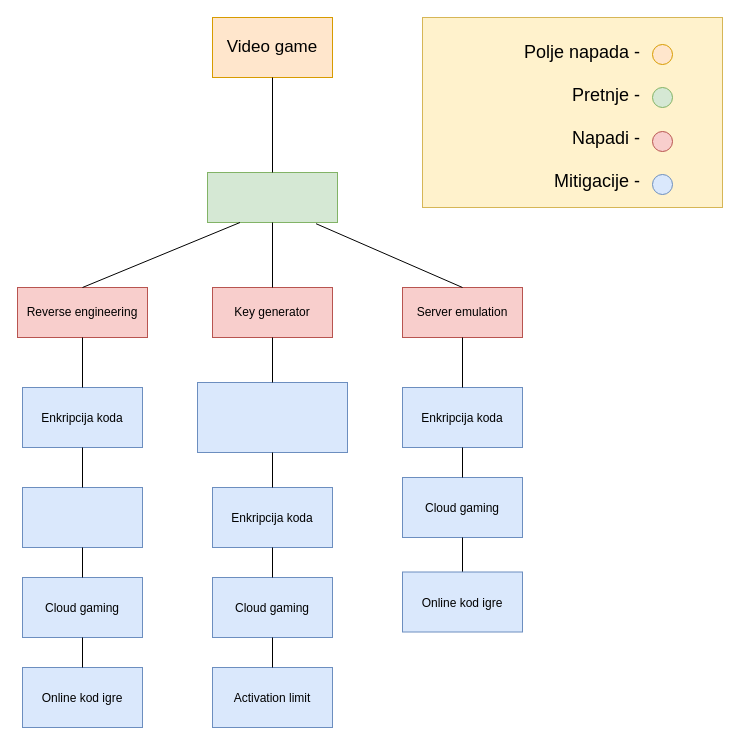
Some shapes in this 740 by 745 pixel diagram are drawn without their labels. The shapes that lost their labels are listed below. From the top down, each one's centre as x and y in pixels, then its label:
the point at 272,197: Video game Cracking
the point at 272,417: Online key verifikacija
the point at 82,517: Always online
